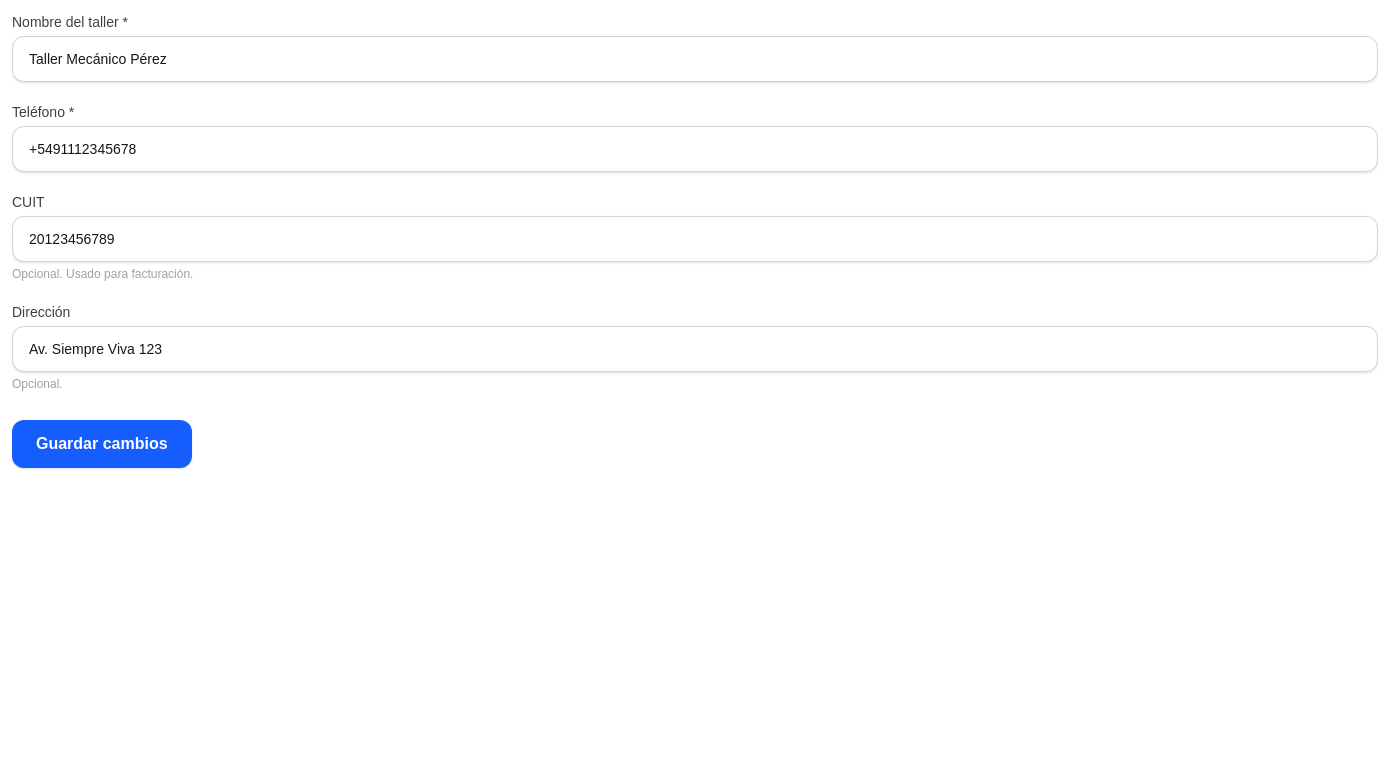
Scenario: WorkshopForm › submission › shows error on exception
Click the button "Guardar cambios" at (102, 444), box x1=12 y1=420 x2=192 y2=468
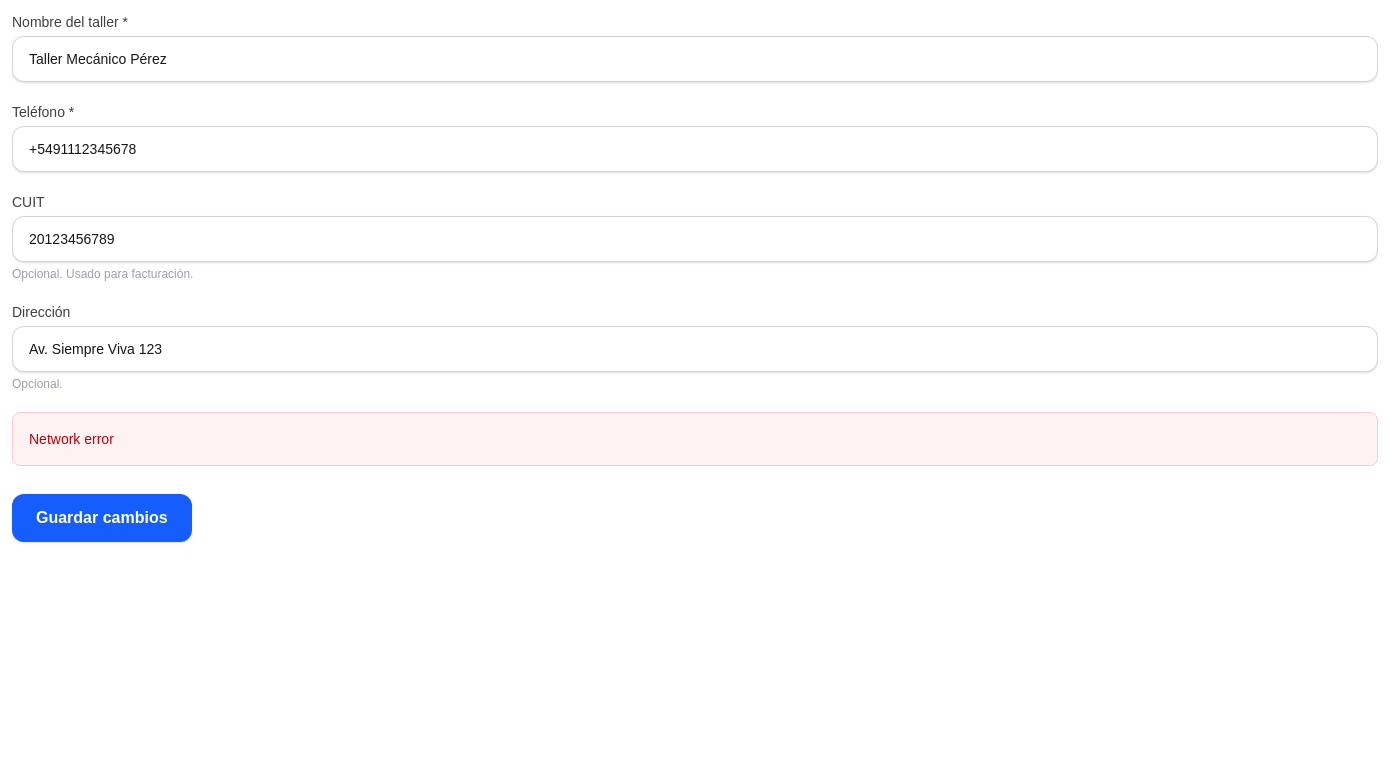
Expected: the text "Network error" is shown, x1=12 y1=412 x2=1378 y2=466
